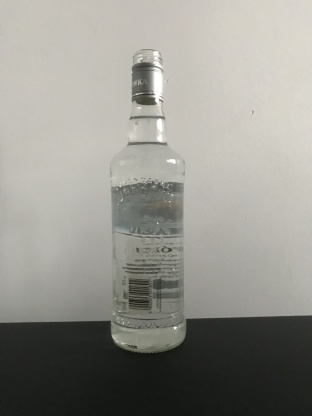nakretka: (129, 46, 165, 105)
